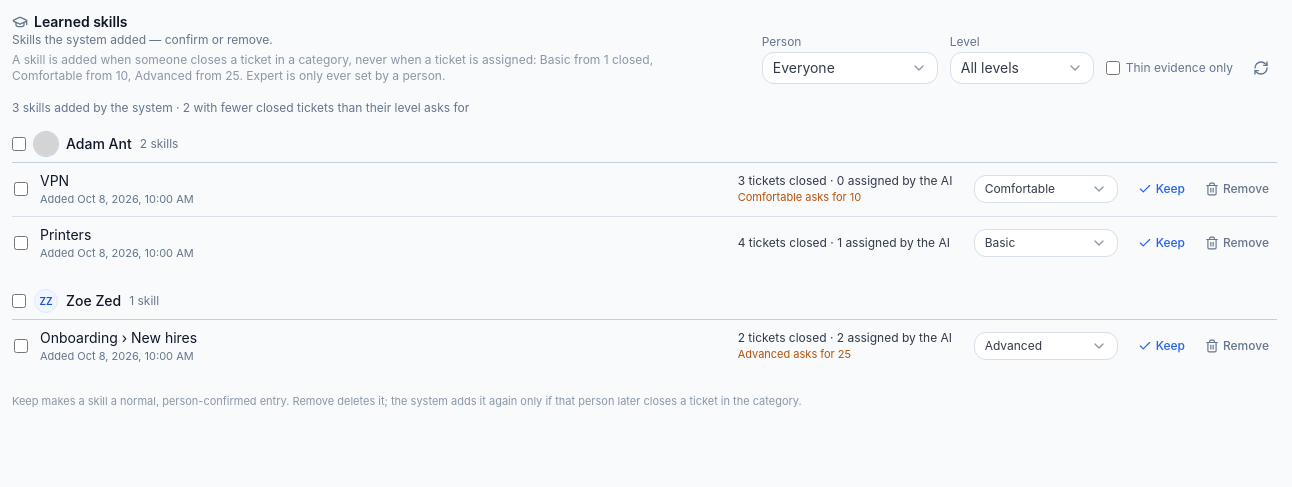
LearnedSkillsTab › bulk: select several, keep them in one request
The image size is (1292, 487).
Click the checkbox named "Select all of Adam Ant's learned skills".
click(19, 144)  # box [12,137,26,151]
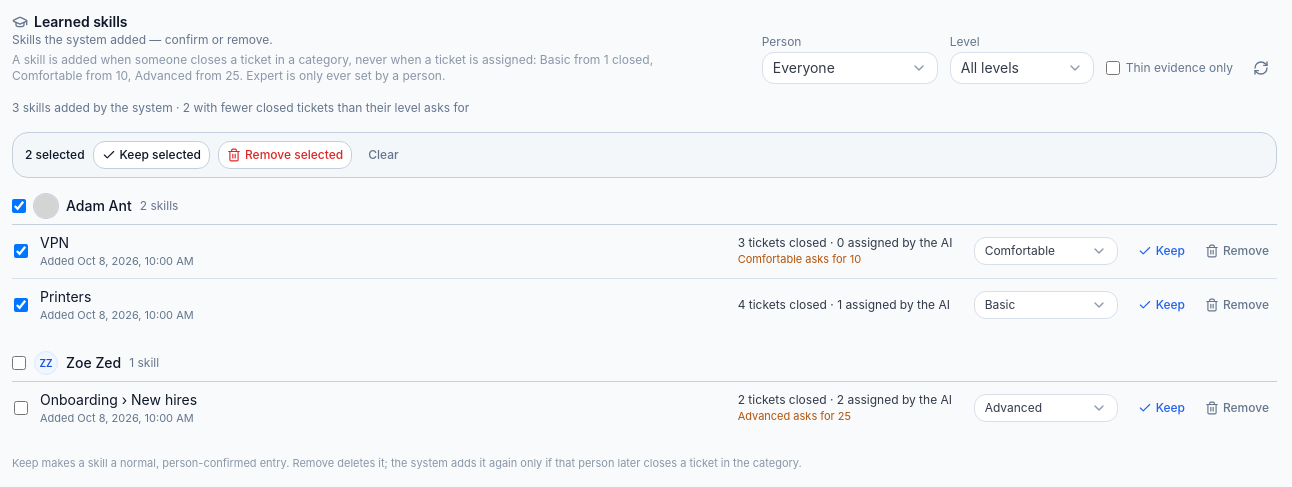
Expected: the element with test id "learned-bulk-bar" shows "2 selected", [12,132,1277,178]
Click the checkbox named "Select Onboarding › New hires for Zoe Zed".
click(21, 408)  # box [14,401,28,415]
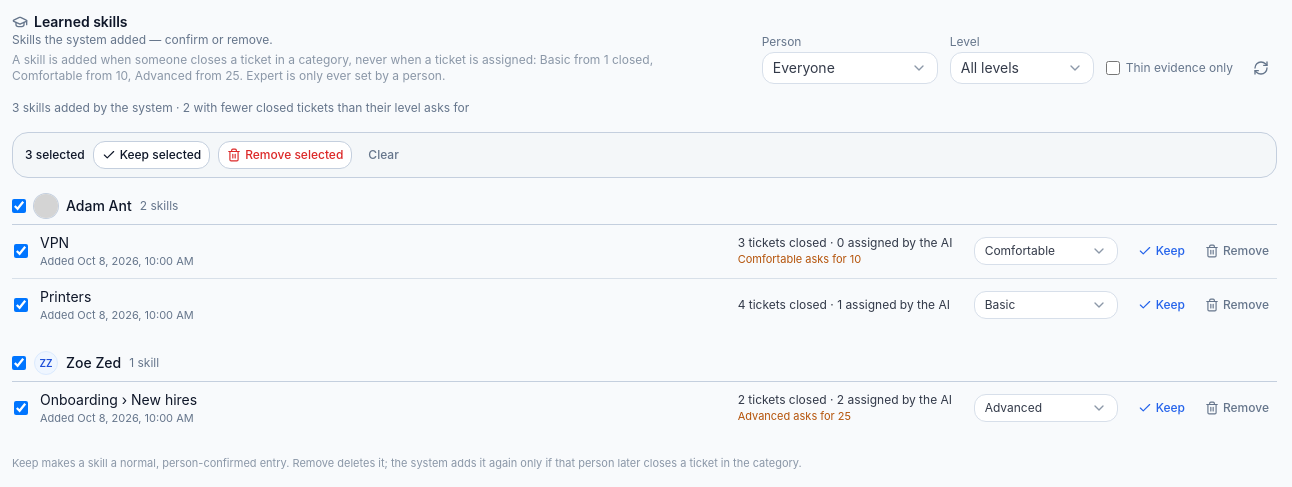
Expected: the element with test id "learned-bulk-bar" shows "3 selected", [12,132,1277,178]
Click the checkbox named "Select Printers for Adam Ant".
click(21, 305)  # box [14,298,28,312]
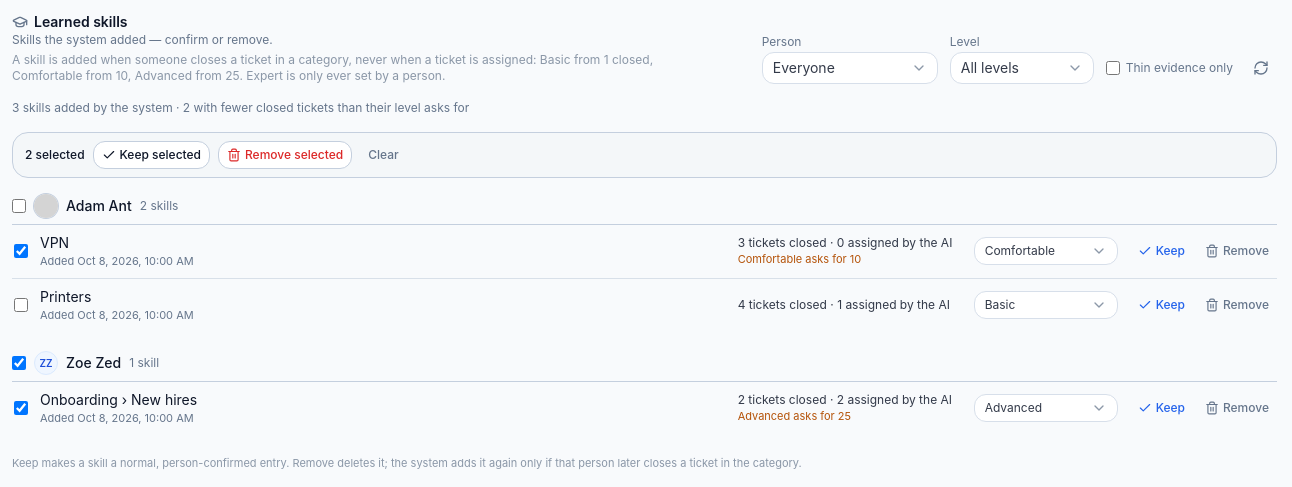
Expected: the element with test id "learned-bulk-bar" shows "2 selected", [12,132,1277,178]
Click the button "Keep selected".
click(151, 155)  # box [93,141,210,169]
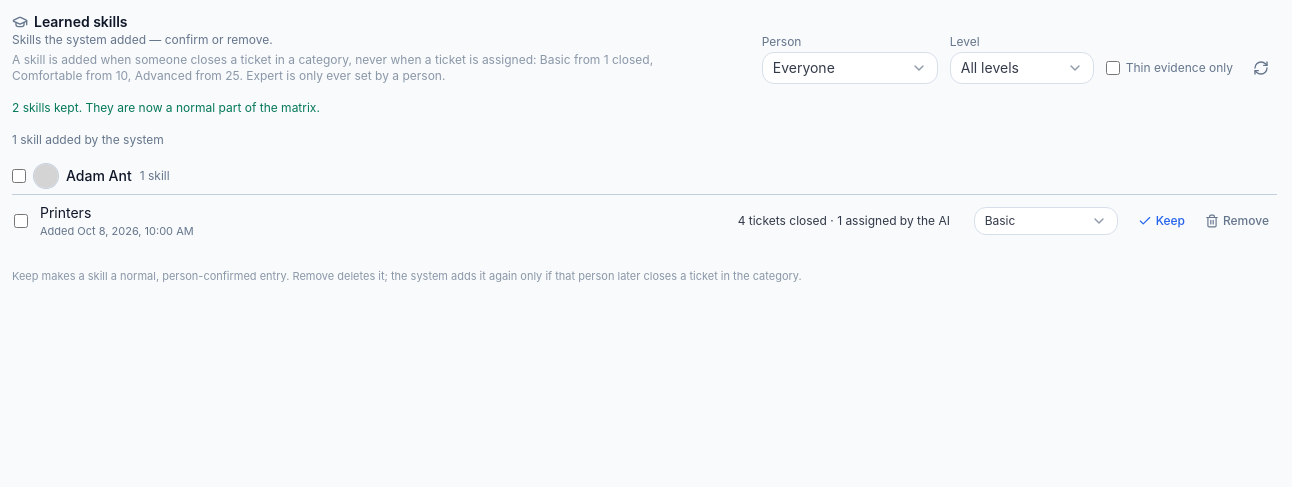
Expected: the number of list items with test id "learned-row" is 1, [12,195,1277,248]
Expected: the element with test id "learned-bulk-bar" is gone
